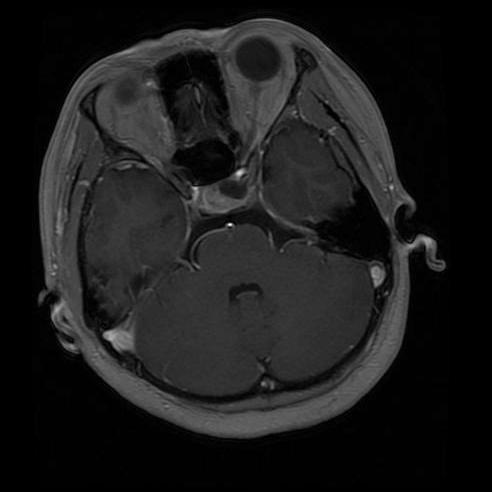Tumour-Pituitary: (192, 167, 265, 225)
